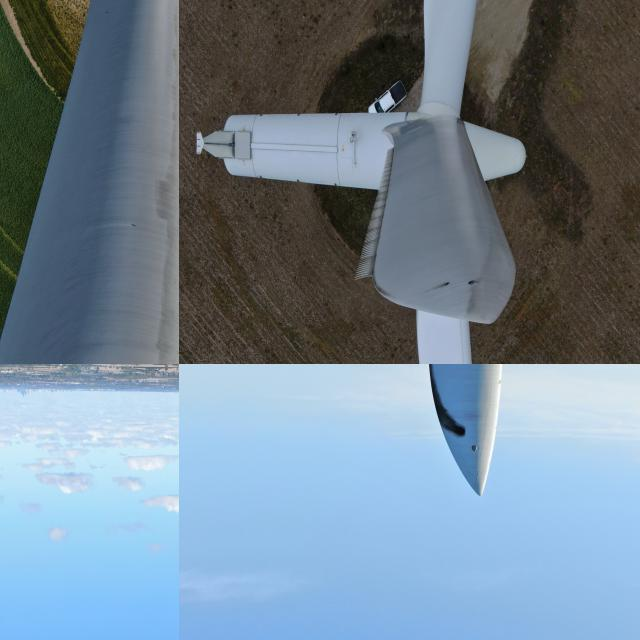damage: (432, 402, 466, 442), (438, 276, 451, 292)
